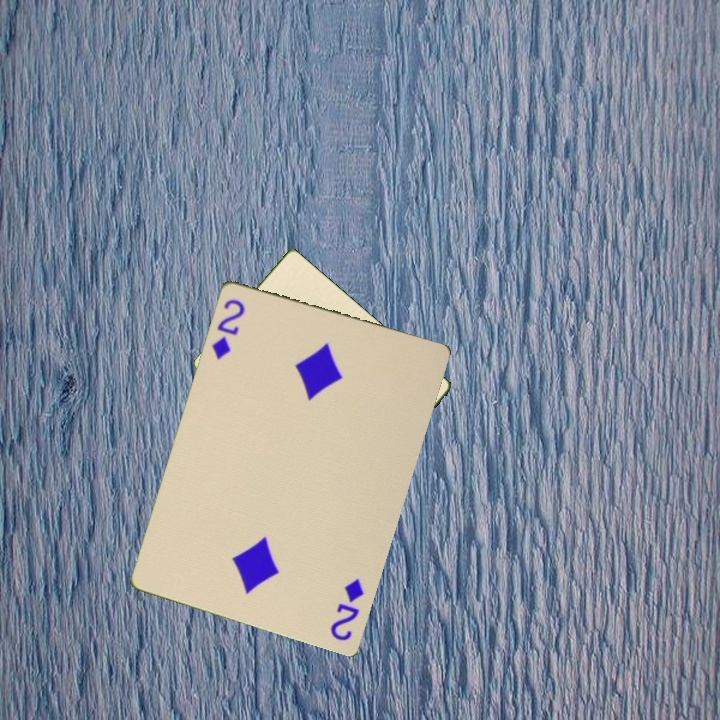2d: (326, 574, 370, 643), (207, 295, 248, 362)
